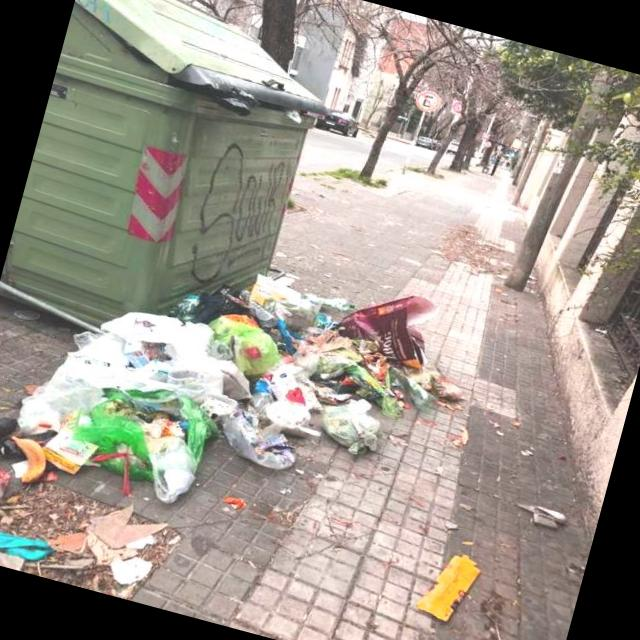high trash: (0, 274, 455, 528)
less trash: (0, 505, 167, 589), (417, 555, 480, 621), (518, 504, 564, 529)
